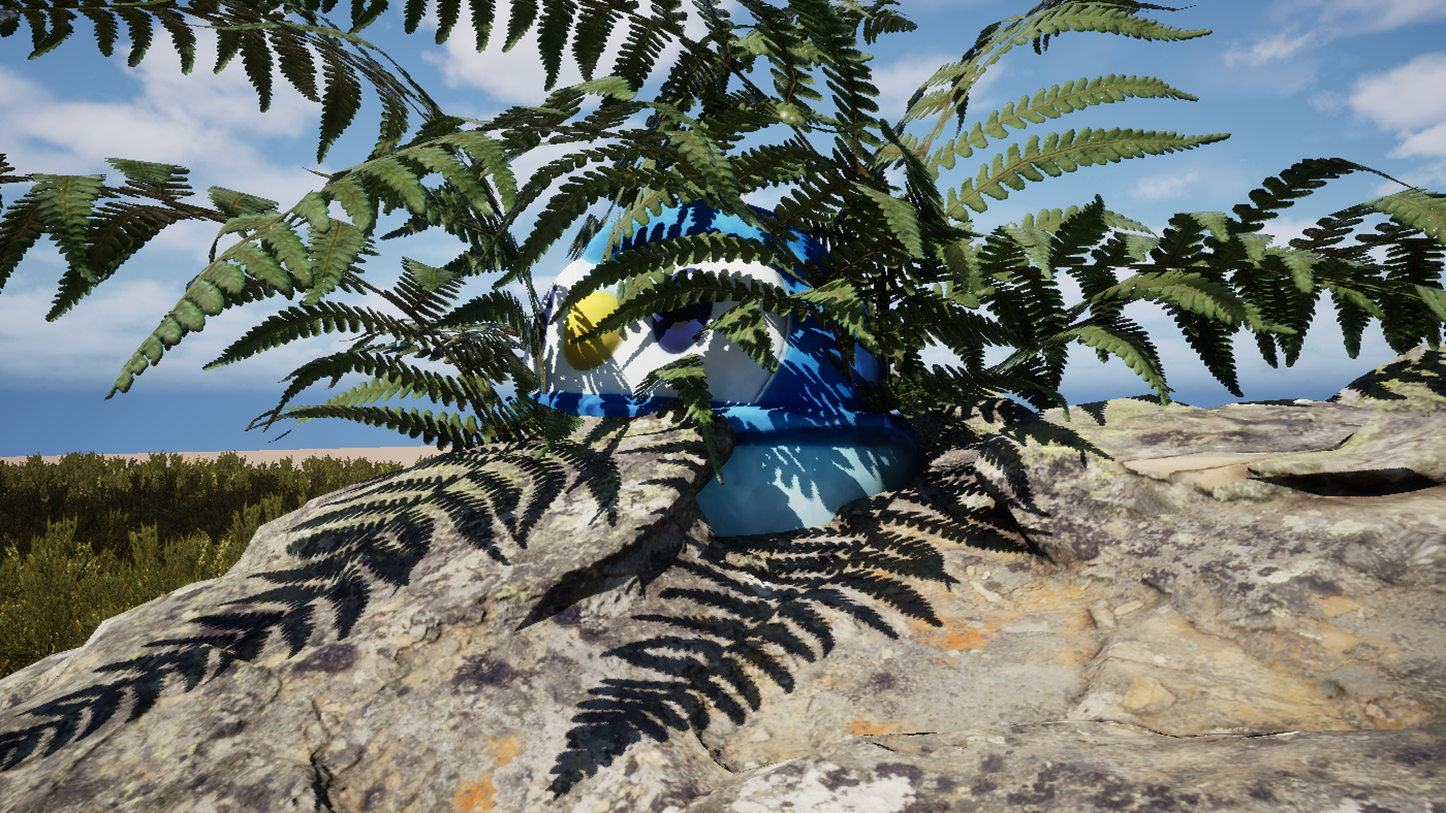Piplup: (425, 31, 1118, 782)
